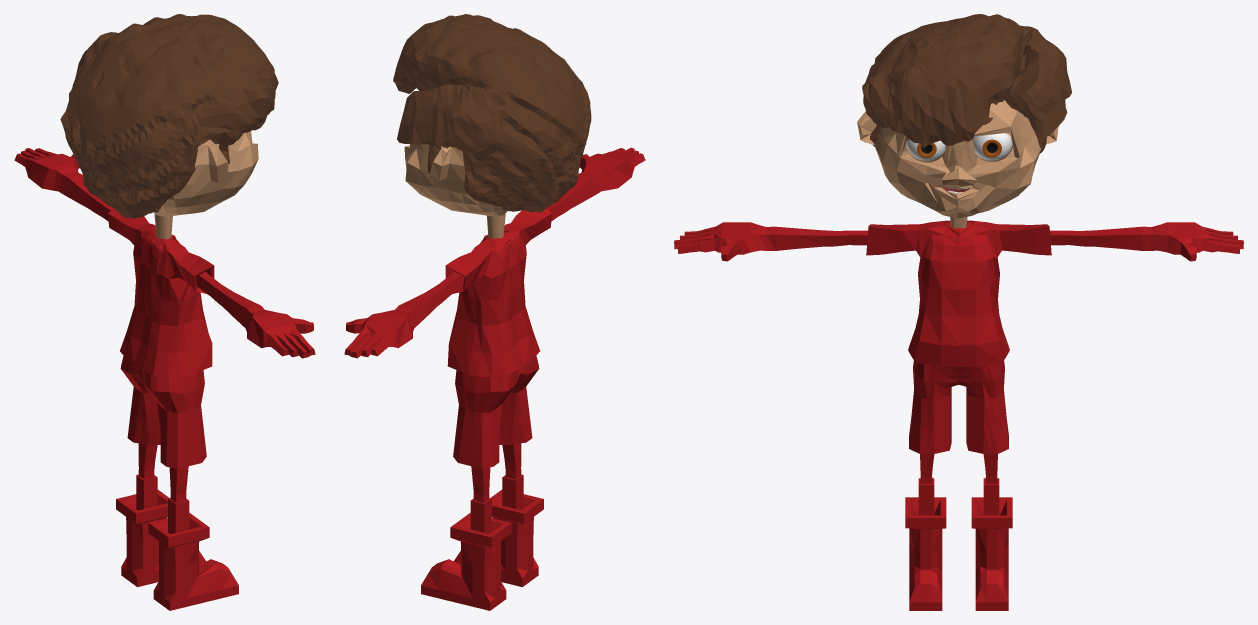
Rendered from boymodelnew.fbx.
3 renders of one model, left to right at view 1: azimuth 30°, elevation 25°; view 2: azimuth 150°, elevation 25°; view 3: azimuth 270°, elevation 25°, orthographic. The views are drawn at different scales.
Parts seen in each view (by area): view 1: Body_1, Hair_3, Head_3; view 2: Body_1, Hair_3, Head_3; view 3: Body_1, Hair_3, Head_3, right.
Part boxes in pixels (box(x1,y1,x2,y2)): Body_1: box(14, 148, 315, 610); Hair_3: box(60, 14, 278, 218); Head_3: box(154, 131, 258, 239); Body_1: box(344, 147, 645, 610); Hair_3: box(393, 14, 591, 212); Head_3: box(404, 144, 507, 238); Body_1: box(674, 220, 1243, 610); Hair_3: box(862, 14, 1071, 153); Head_3: box(857, 100, 1058, 228); right: box(973, 133, 1012, 160).
Size of the model in its own units: 278 by 808 by 733.
